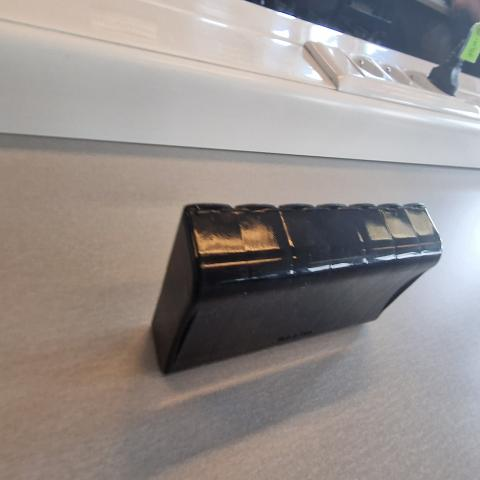Pill-box: (118, 162, 459, 399)
